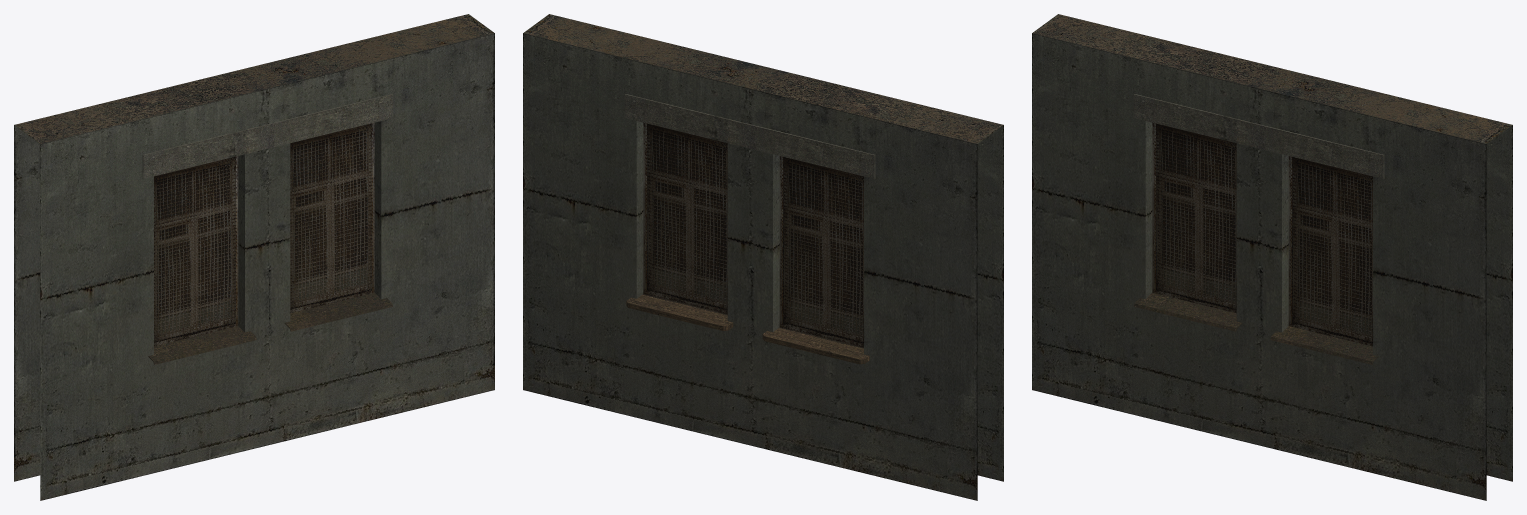
File: windows_rg_1.glb
3 views of the same model, side by side, from view 1: azimuth 30°, elevation 25°; view 2: azimuth 150°, elevation 25°; view 3: azimuth 330°, elevation 25° (orthographic).
Visible parts, largest first — view 1: windows_rg_1; view 2: windows_rg_1; view 3: windows_rg_1.
Part boxes in pixels (x1=…): windows_rg_1: x1=14, y1=14, x2=494, y2=500; windows_rg_1: x1=523, y1=14, x2=1003, y2=500; windows_rg_1: x1=1032, y1=14, x2=1512, y2=500.
Bounding box in the file's own units: 4 × 3 × 0.595.
Materials: 6 (6 with a texture image).
